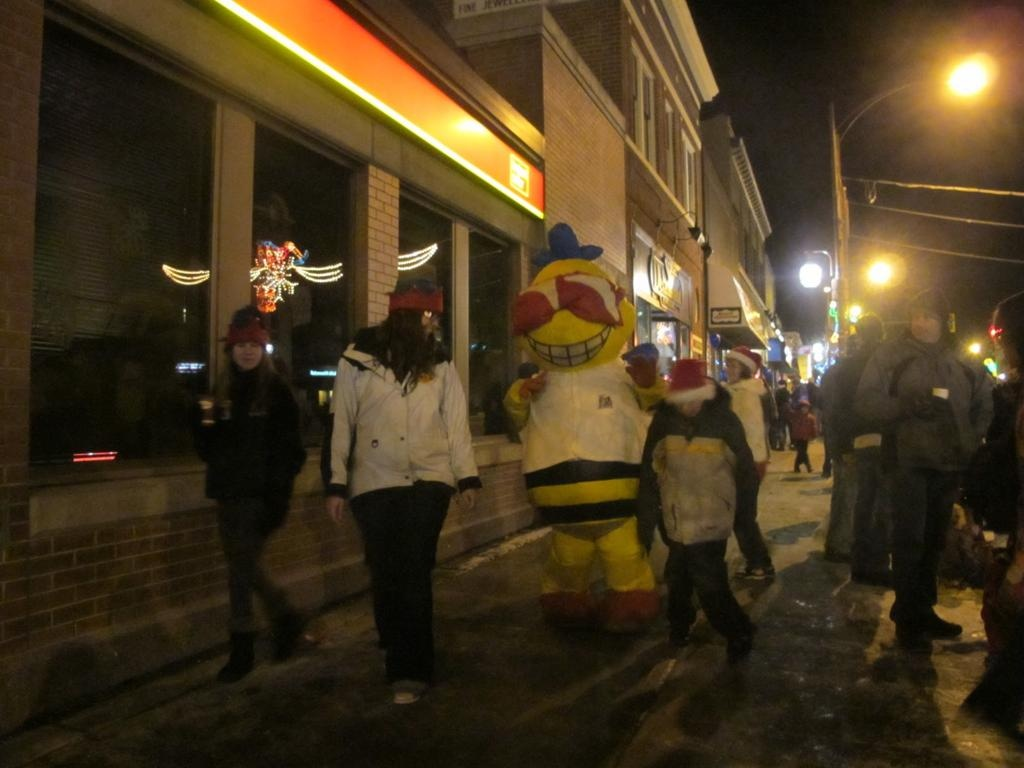human_face: (912, 310, 942, 342), (234, 338, 262, 368), (674, 392, 706, 418), (416, 306, 438, 340), (726, 357, 744, 383), (854, 338, 874, 358), (800, 404, 808, 414)
